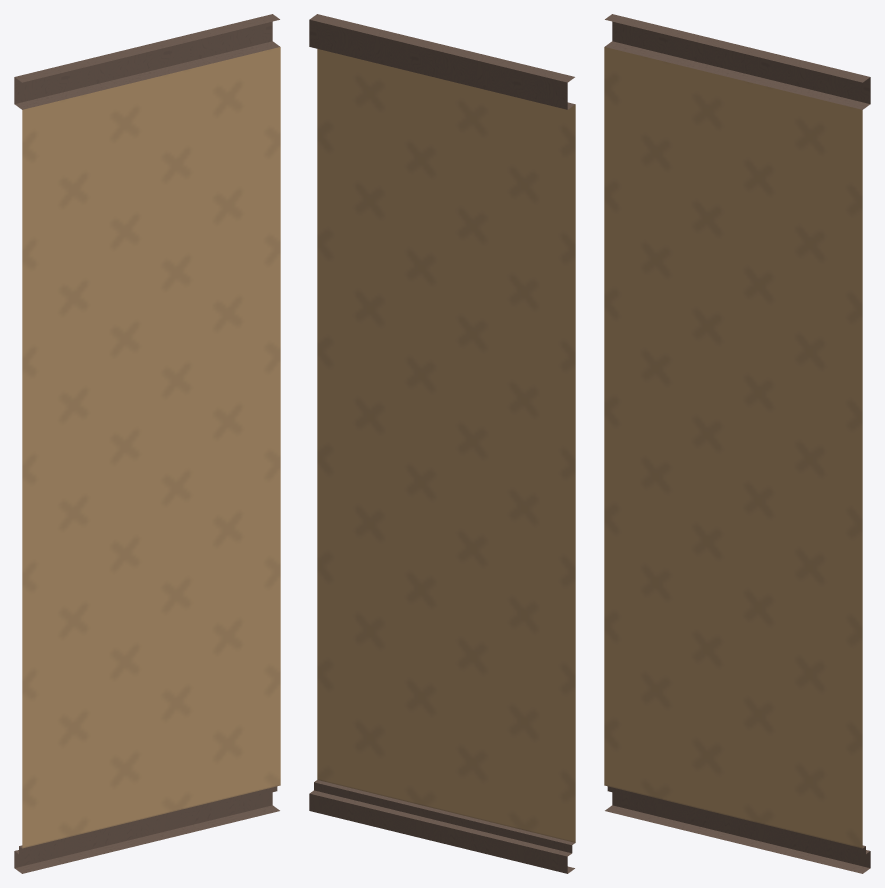
Rendered from Wall Room Shorter.fbx.
The picture shows the model from 3 angles, left to right: view 1: azimuth 30°, elevation 25°; view 2: azimuth 150°, elevation 25°; view 3: azimuth 330°, elevation 25°; orthographic projection.
Visible parts, largest first — view 1: Wall Room Shorter.001; view 2: Wall Room Shorter.001; view 3: Wall Room Shorter.001.
Part boxes in pixels (bbox=[...]): Wall Room Shorter.001: bbox=[14, 14, 280, 873]; Wall Room Shorter.001: bbox=[309, 14, 575, 873]; Wall Room Shorter.001: bbox=[604, 14, 870, 873].
Size of the model in its own units: 2 by 5.85 by 0.1039.
